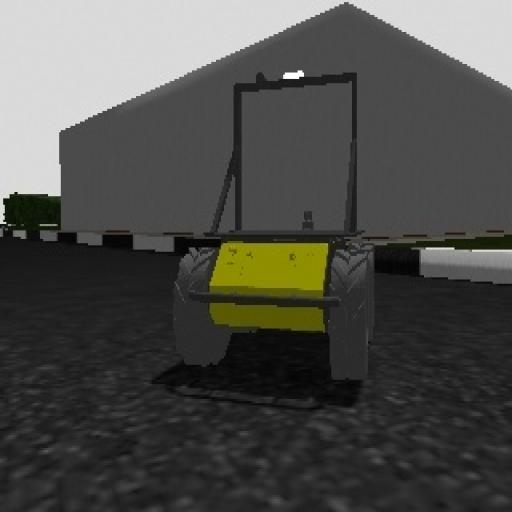huskya200: (180, 74, 392, 378)
